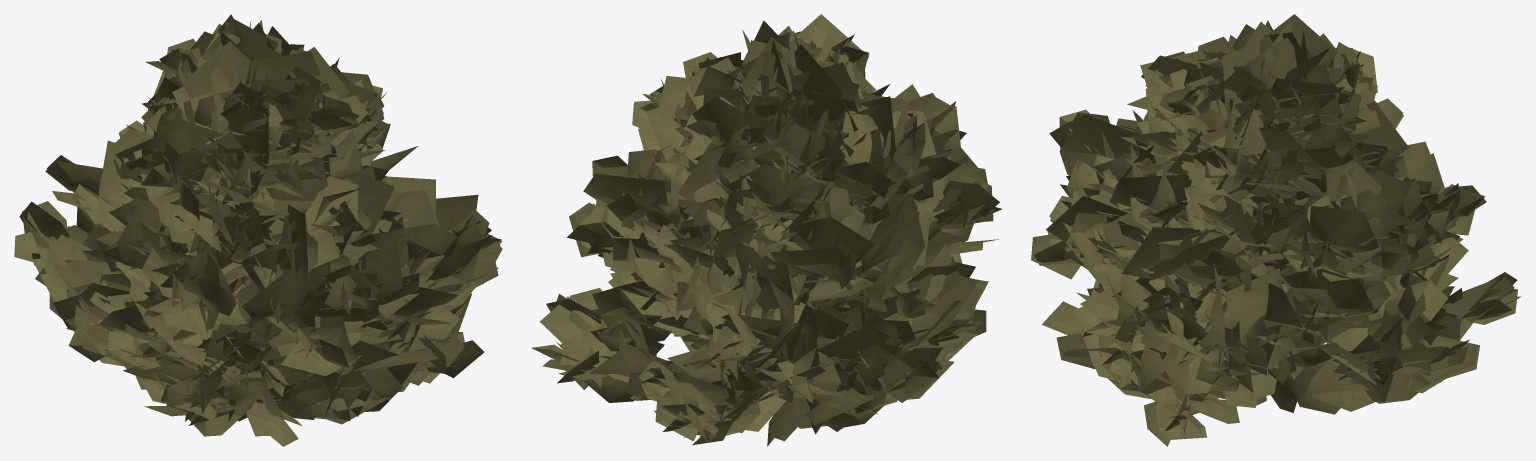
File: Bush.fbx
3 views of the same model, side by side, from view 1: azimuth 30°, elevation 25°; view 2: azimuth 150°, elevation 25°; view 3: azimuth 270°, elevation 25° (orthographic). The views are drawn at different scales.
Visible parts, largest first — view 1: SM_BRL_Bushes_Round01.mo; view 2: SM_BRL_Bushes_Round01.mo; view 3: SM_BRL_Bushes_Round01.mo.
Boxes of the visible parts, x1=… form: SM_BRL_Bushes_Round01.mo: x1=14, y1=14, x2=502, y2=446; SM_BRL_Bushes_Round01.mo: x1=531, y1=14, x2=1002, y2=446; SM_BRL_Bushes_Round01.mo: x1=1031, y1=14, x2=1521, y2=446.
Size of the model in its own units: 212 by 205 by 234.
